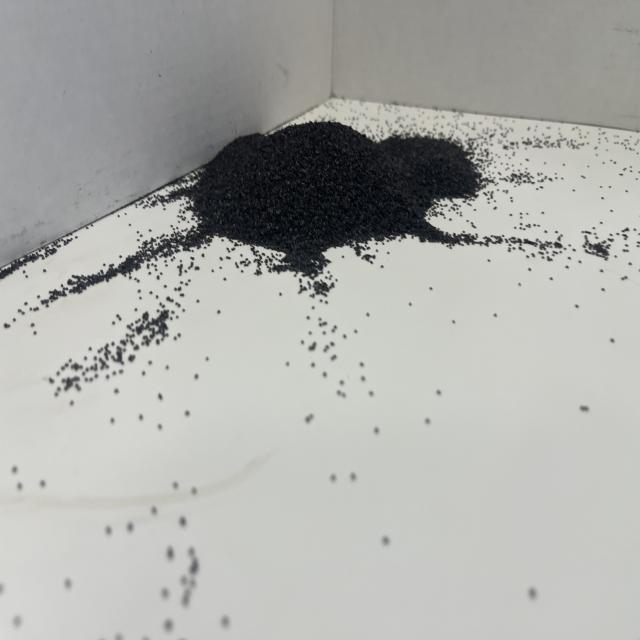Poppy Seeds: (156, 100, 490, 278)
